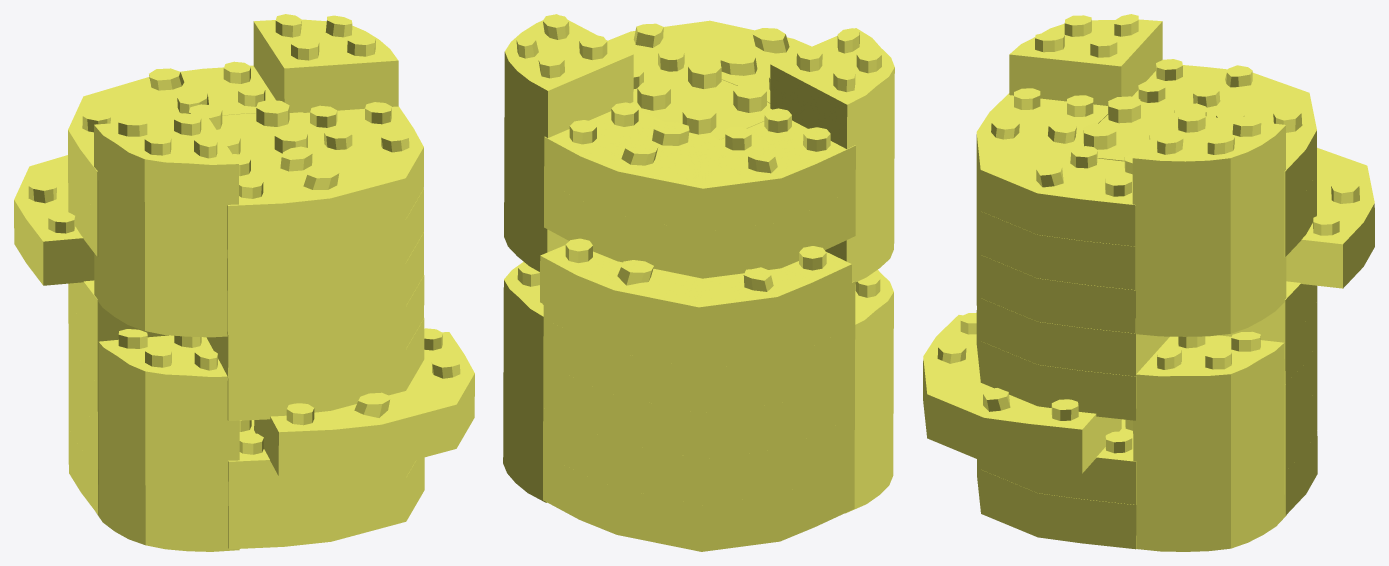
File: SmallLegoTower.fbx
The picture shows the model from 3 angles, left to right: view 1: azimuth 30°, elevation 25°; view 2: azimuth 150°, elevation 25°; view 3: azimuth 270°, elevation 25°; orthographic projection. The views are drawn at different scales.
Visible parts, largest first — view 1: polySurface8061; view 2: polySurface8061; view 3: polySurface8061.
Part boxes in pixels (x1,y1,x2,y2): polySurface8061: (14, 14, 474, 551); polySurface8061: (503, 14, 894, 551); polySurface8061: (923, 14, 1374, 551).
Size of the model in its own units: 10.55 by 11.84 by 12.04.
